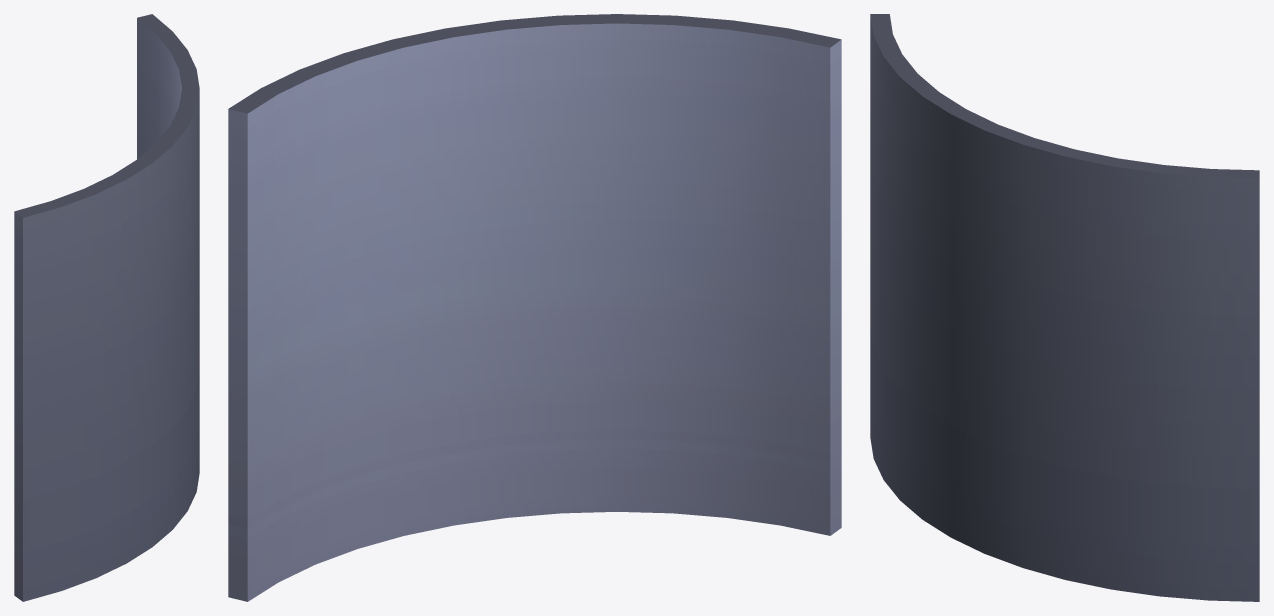
File: wall-corner-round.optimized.glb
3 views of the same model, side by side, from view 1: azimuth 30°, elevation 25°; view 2: azimuth 150°, elevation 25°; view 3: azimuth 270°, elevation 25° (orthographic). The views are drawn at different scales.
Parts seen in each view (by area): view 1: wall-corner-round; view 2: wall-corner-round; view 3: wall-corner-round.
Boxes of the visible parts, x1,y1,x2,y2 form: wall-corner-round: (14,14,199,601); wall-corner-round: (228,14,841,601); wall-corner-round: (870,14,1259,601).
Bounding box in the file's own units: 2 × 2.4 × 2.
Materials: 1 (1 with a texture image).
